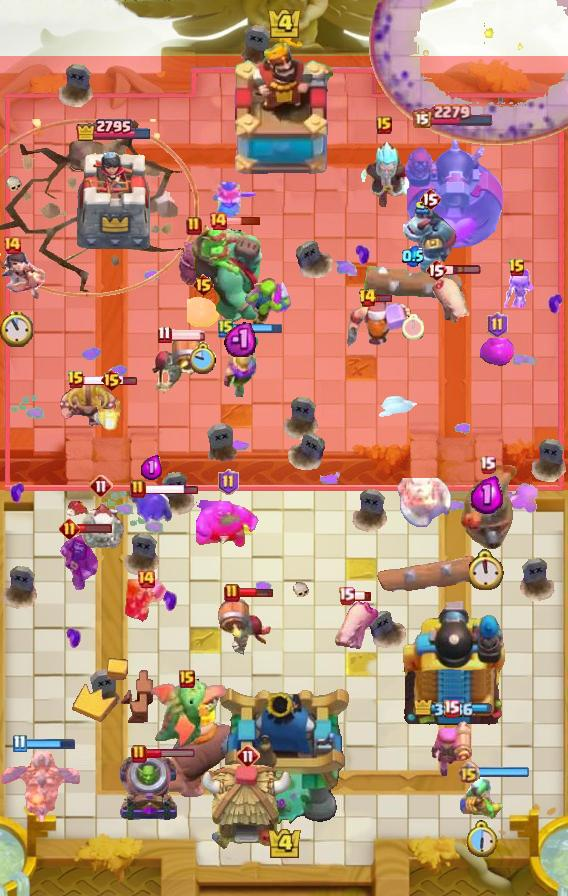axe: (397, 478, 453, 528)
bar: (144, 483, 199, 496), (83, 374, 138, 387), (24, 738, 76, 750), (231, 323, 283, 334), (145, 748, 196, 759), (478, 767, 529, 777), (169, 329, 207, 341), (445, 264, 482, 276), (238, 587, 274, 598), (77, 523, 113, 534), (226, 216, 261, 226), (352, 590, 372, 602), (374, 293, 393, 303)
bar-level: (236, 744, 260, 768), (89, 474, 113, 498), (100, 368, 123, 392), (192, 273, 215, 297), (218, 469, 239, 495), (487, 312, 508, 338), (457, 761, 480, 784), (425, 258, 447, 282), (419, 187, 441, 211), (59, 518, 80, 539), (136, 569, 156, 589), (2, 235, 22, 255), (208, 211, 228, 231), (358, 288, 377, 308), (67, 370, 85, 390), (508, 258, 526, 278), (443, 699, 460, 718), (338, 586, 355, 605), (479, 455, 496, 474), (131, 744, 147, 764), (224, 583, 240, 603), (130, 479, 146, 499), (218, 318, 234, 338), (186, 216, 202, 236), (179, 670, 195, 688), (376, 116, 392, 134), (12, 734, 27, 753), (157, 325, 172, 344)
cannoneer-tower: (397, 595, 509, 731), (400, 132, 507, 256)
clock: (469, 549, 505, 590), (464, 820, 498, 858), (0, 310, 33, 347), (190, 342, 217, 374), (402, 314, 424, 340)
electro-spirit: (130, 487, 172, 527)
elite-barbarian: (58, 379, 120, 427)
elixir: (471, 476, 503, 514), (224, 320, 256, 357), (141, 455, 162, 480), (402, 245, 424, 267)
elixir-golem-mid: (196, 499, 260, 549)
elixir-golem-small: (479, 338, 515, 368), (187, 297, 219, 327)
firecracker: (429, 719, 473, 779)
goblin: (243, 278, 295, 328)
hog: (330, 599, 382, 653), (429, 275, 475, 327)
ice-wizard: (353, 139, 415, 211)
king-tower: (216, 684, 352, 826), (228, 41, 340, 181)
lava-pup: (92, 391, 130, 433)
lumberjack: (345, 300, 413, 354)
mega-minion: (402, 202, 458, 274)
mini-pekka: (168, 237, 220, 289)
mortar-evolution: (117, 753, 181, 823)
musketeer: (220, 333, 260, 397)
princess: (0, 245, 50, 301)
queen-tower: (71, 145, 157, 256)
skeleton-evolution: (499, 268, 535, 308)
spear-goblin: (456, 776, 506, 820)
the-log: (373, 554, 479, 598), (363, 263, 463, 301)
tower-bar: (412, 103, 495, 128), (75, 117, 153, 141), (413, 700, 493, 717)
valkyrie: (211, 180, 259, 234), (124, 578, 168, 626)
wall-breaker: (151, 332, 205, 396), (217, 597, 273, 657)
wizard: (59, 533, 101, 591)
